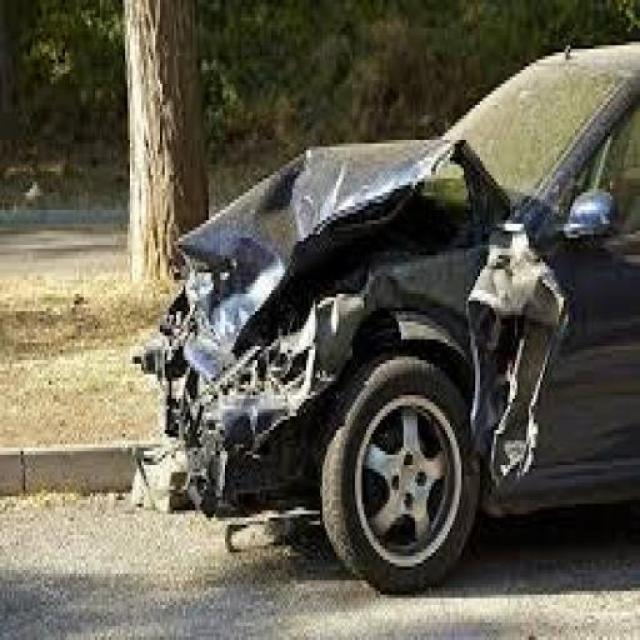crush: (134, 135, 570, 508)
